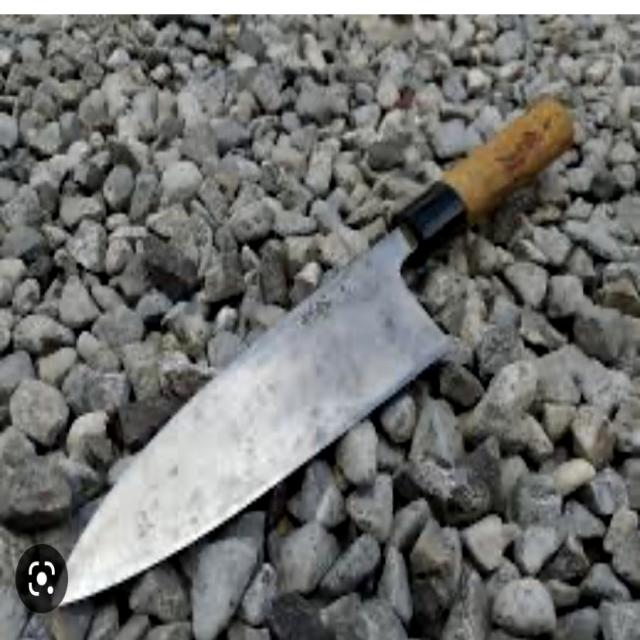knife: (46, 91, 576, 606)
